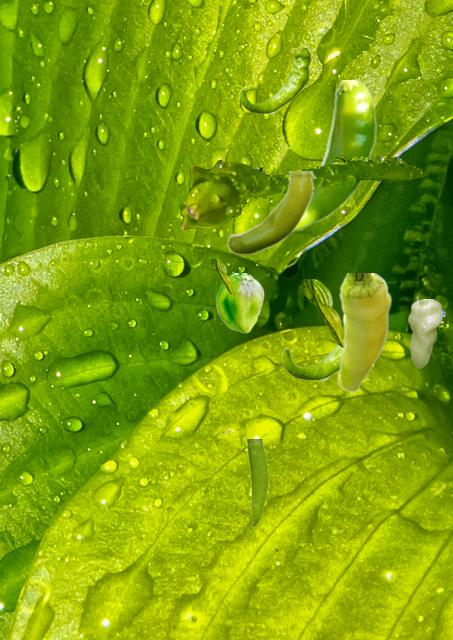green_chili: (296, 80, 376, 231), (226, 171, 314, 253), (336, 273, 391, 392), (240, 48, 310, 113), (216, 273, 263, 332), (407, 299, 441, 367), (282, 345, 341, 380), (246, 439, 267, 526)
